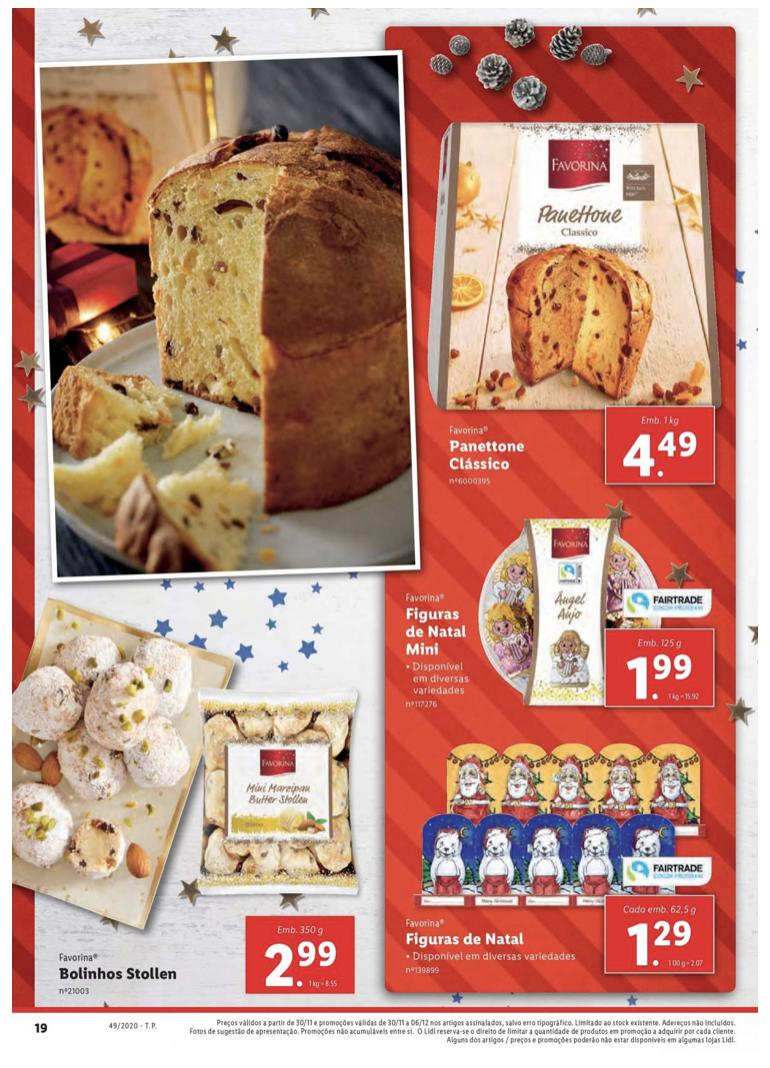name: (400, 604, 473, 661), (441, 436, 532, 473), (398, 929, 529, 954), (54, 960, 185, 984)
price: (618, 648, 703, 706), (618, 427, 703, 483), (625, 918, 703, 975), (262, 939, 341, 986)
product: (31, 604, 374, 1000), (425, 108, 712, 504), (387, 725, 733, 983), (379, 502, 741, 713)
